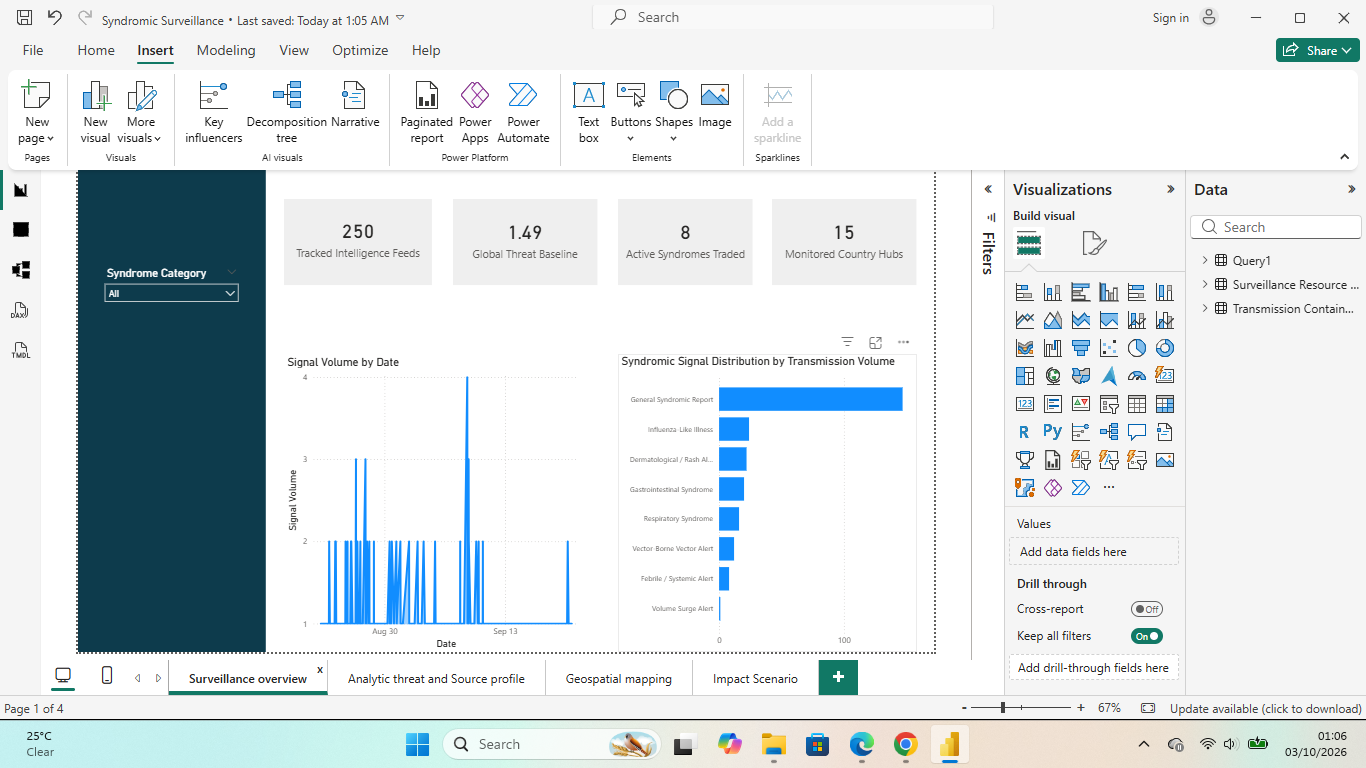

The page's visual inventory and layout, read from the dashboard file:
{"tool":"powerbi","page":{"name":"Surveillance overview","canvas":[1280,720],"ordinal":0},"visuals":[{"type":"shape","box":[0,0,280.5,720.6],"z":0},{"type":"slicer","fields":{"Values":["Query1.Syndrome Category"]},"box":[30.2,139.4,220.1,472],"z":1000},{"type":"shape","box":[560,42.9,215.7,128.6],"z":2000},{"type":"shape","box":[807.1,42.9,201.4,128.6],"z":3000},{"type":"shape","box":[307.1,42.9,221.4,128.6],"z":4000},{"type":"shape","box":[1037.1,42.9,215.7,128.6],"z":5000},{"type":"areaChart","fields":{"Category":["Query1.Date"],"Y":["CountNonNull(Query1.Title)"]},"box":[307.1,275.7,452.9,444.3],"z":6000},{"type":"clusteredBarChart","title":"Syndromic Signal Distribution by Transmission Volume","fields":{"Category":["Query1.Syndrome Category"],"Y":["CountNonNull(Query1.Title)"]},"box":[807.1,274.3,445.7,445.7],"z":7000},{"type":"card","fields":{"Values":["CountNonNull(Query1.Title)"]},"box":[307.7,41.8,221.1,116.5],"z":8000},{"type":"card","fields":{"Values":["Avg(Query1.Alert Level)"]},"box":[560.2,41.8,215.1,118],"z":9000},{"type":"card","fields":{"Values":["Count(Query1.Syndrome Category)"]},"box":[806.6,41.8,201.7,118],"z":10000},{"type":"card","fields":{"Values":["Count(Query1.Country)"]},"box":[1036.7,41.8,215.1,118],"z":11000}]}

Visuals, with their boxes on the page's 1280x720 design canvas (x1, y1, x2, y2). These are canvas units, not pixel positions in the 1366x768 screenshot, which may show the page scaled, cropped or inside an application window:
shape: select_region(0, 0, 280, 721)
slicer - Query1.Syndrome Category: select_region(30, 139, 250, 611)
shape: select_region(560, 43, 776, 172)
shape: select_region(807, 43, 1008, 172)
shape: select_region(307, 43, 528, 172)
shape: select_region(1037, 43, 1253, 172)
areaChart - Query1.Date x CountNonNull(Query1.Title): select_region(307, 276, 760, 720)
"Syndromic Signal Distribution by Transmission Volume" clusteredBarChart: select_region(807, 274, 1253, 720)
card - CountNonNull(Query1.Title): select_region(308, 42, 529, 158)
card - Avg(Query1.Alert Level): select_region(560, 42, 775, 160)
card - Count(Query1.Syndrome Category): select_region(807, 42, 1008, 160)
card - Count(Query1.Country): select_region(1037, 42, 1252, 160)
